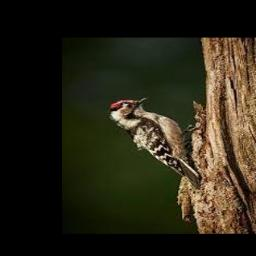Woodpecker: (108, 97, 200, 188)
